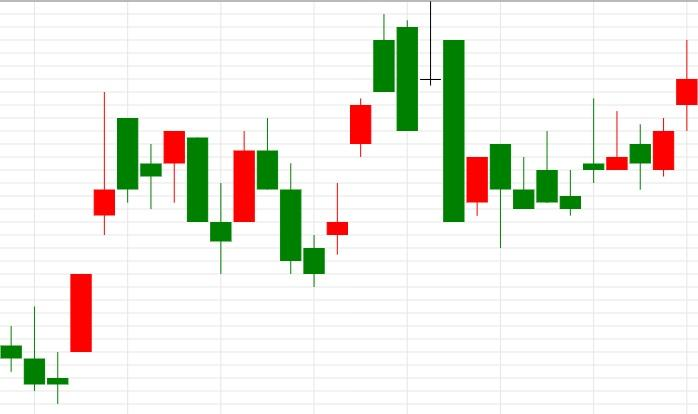hanging_man_fall: (46, 92, 185, 403)
